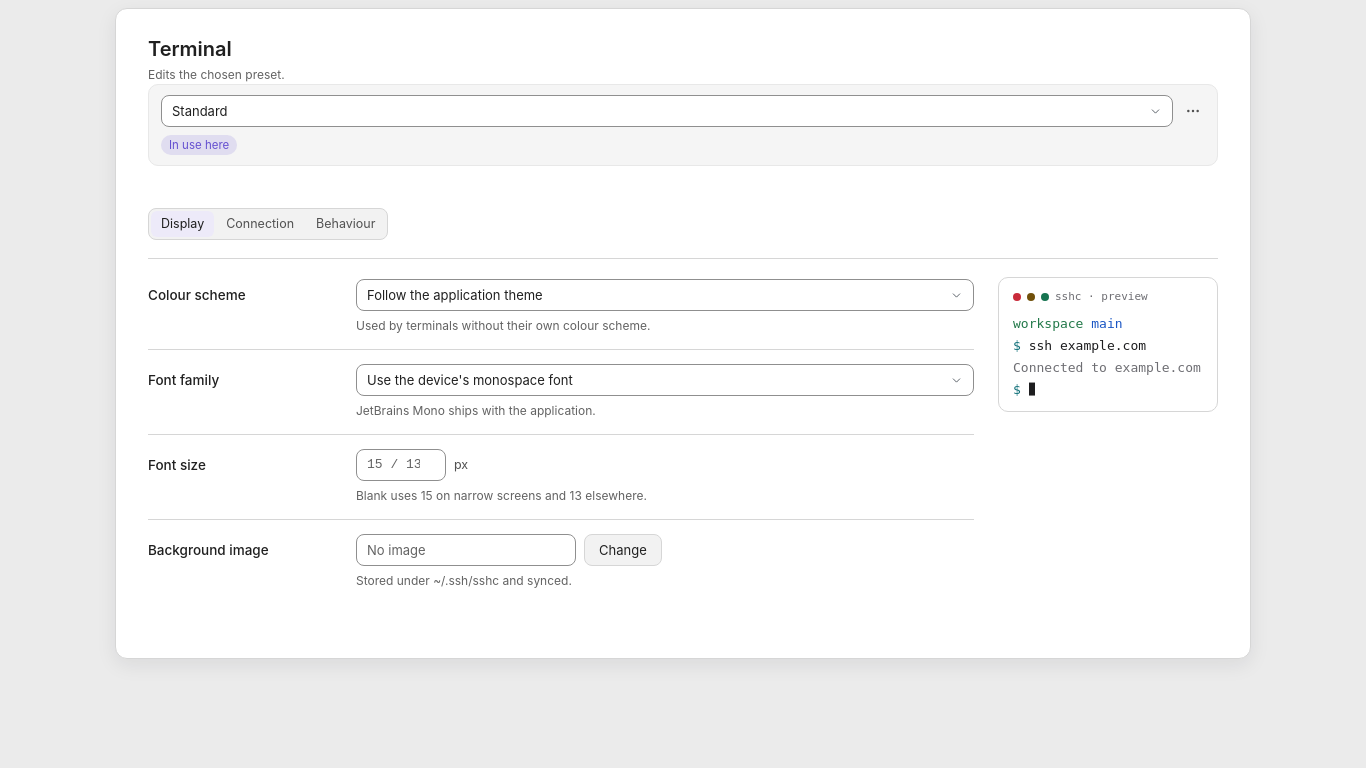
SettingsPanel › saves what was typed on one tab when another is opened, and keeps it shown
Click the tab "Connection".
click(260, 224)  # box [216,211,304,237]
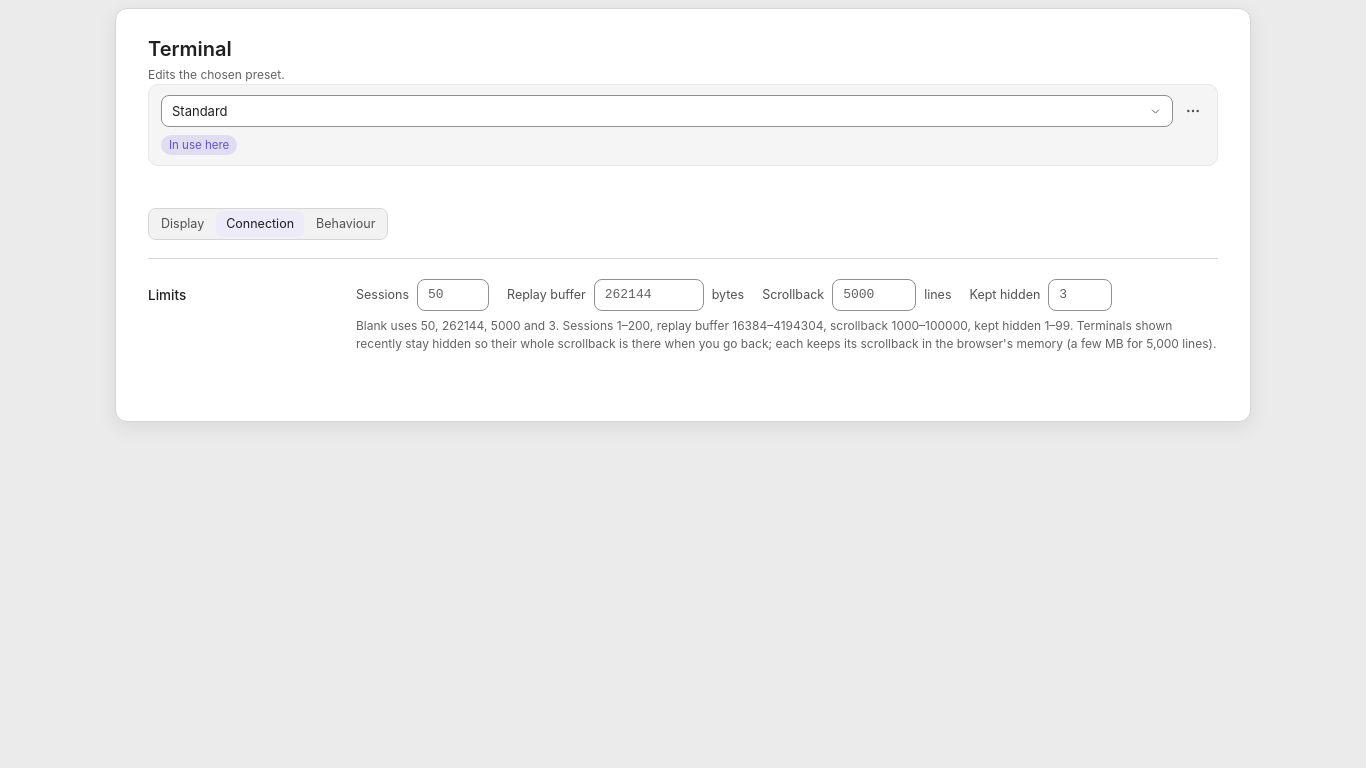
Expected: the number field named "Sessions open at once" is enabled
Type "7" into the number field named "Sessions open at once".
click(453, 295); type("7")  # box [417,279,489,311]
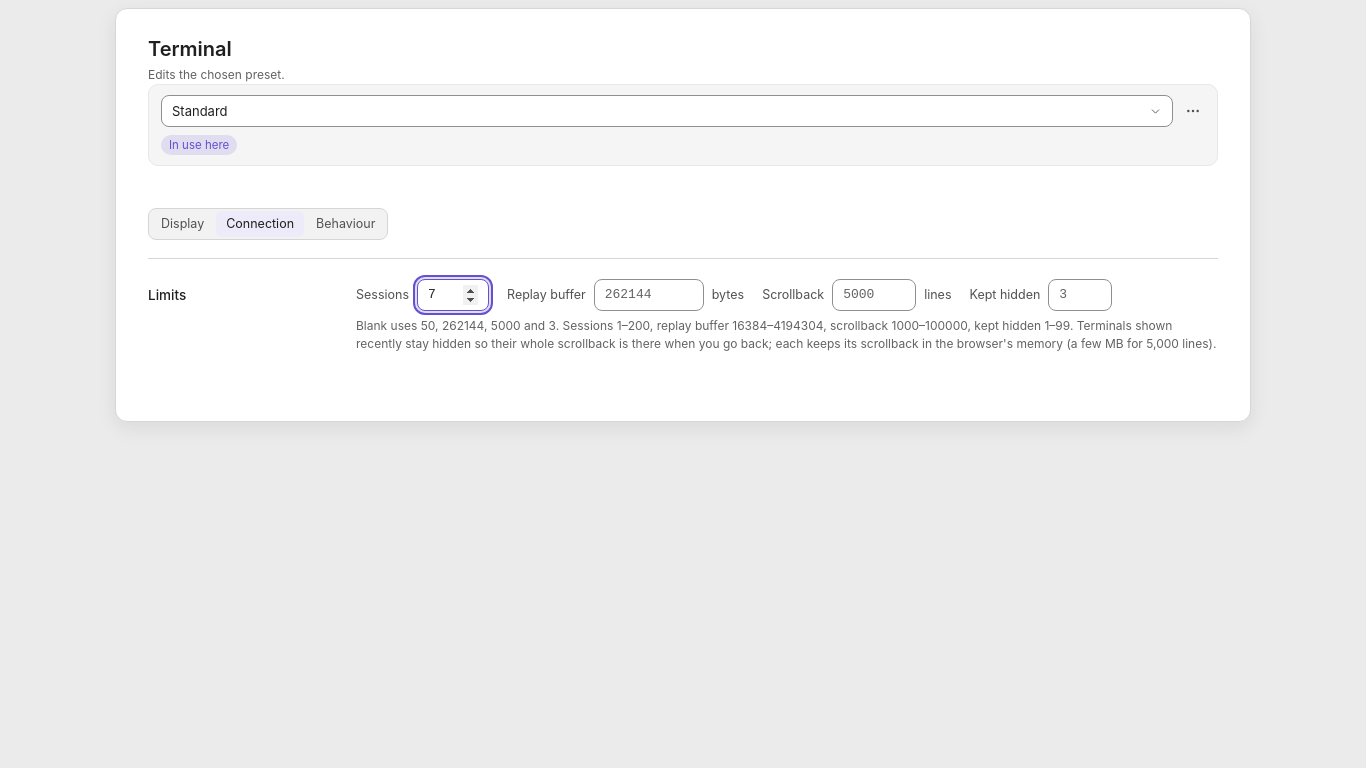
Click the tab "Display".
click(183, 224)  # box [151,211,214,237]
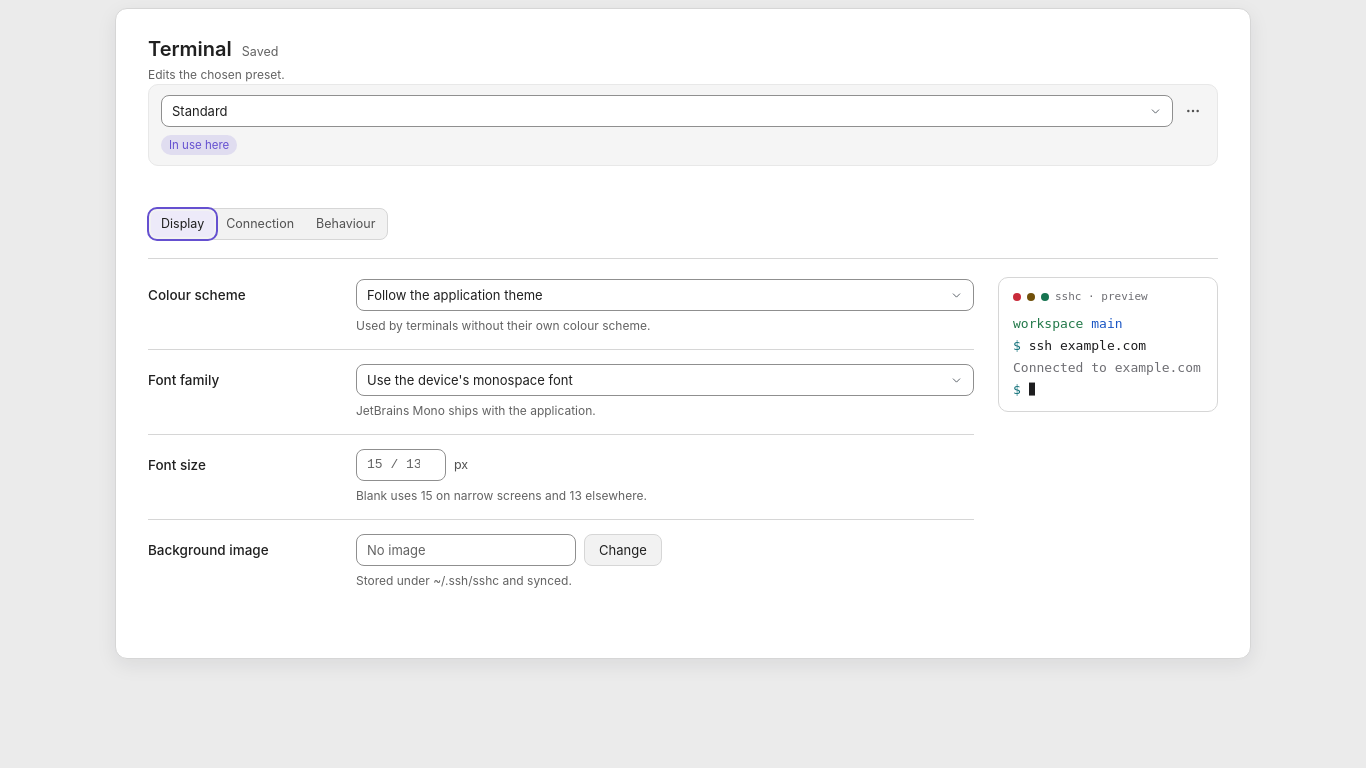
Type "14" into the number field labelled "Font size".
click(401, 465); type("14")  # box [356,449,446,481]
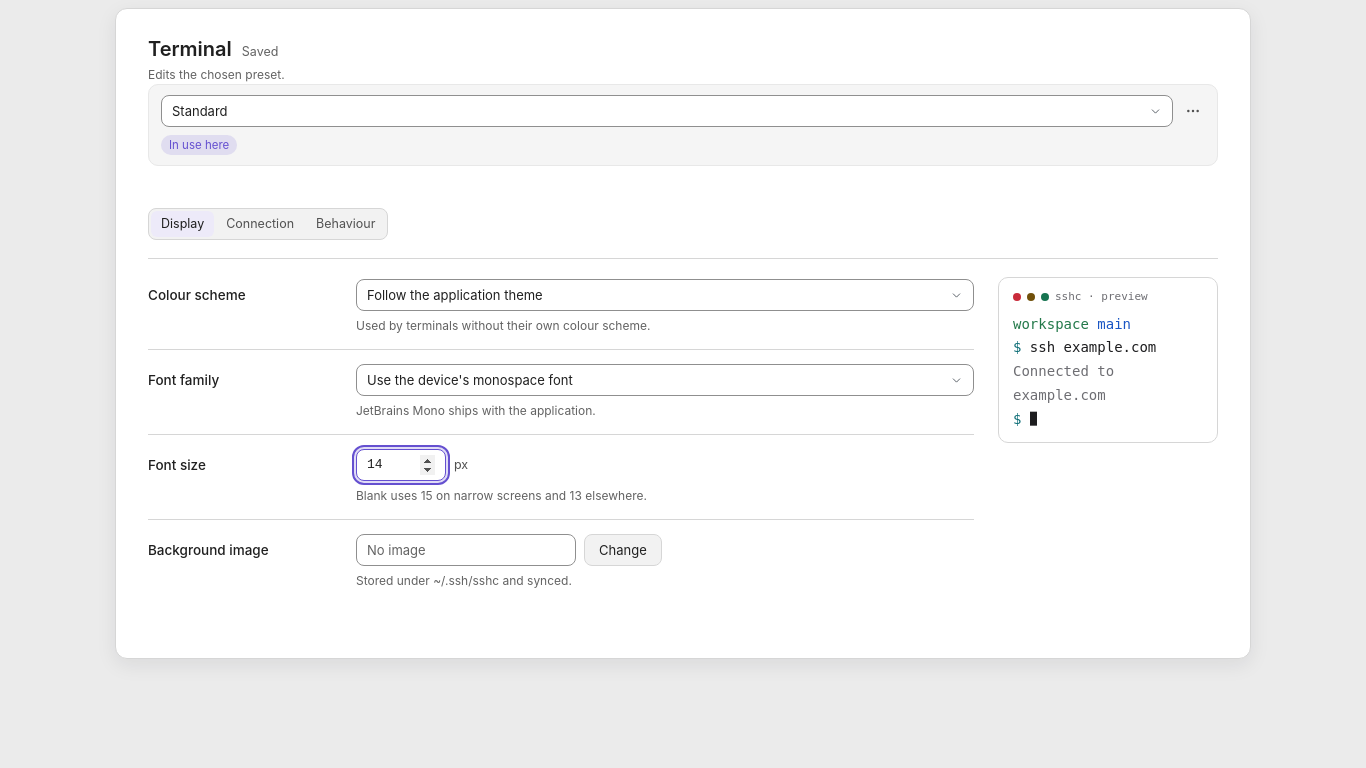
Click the tab "Connection".
click(260, 224)  # box [216,211,304,237]
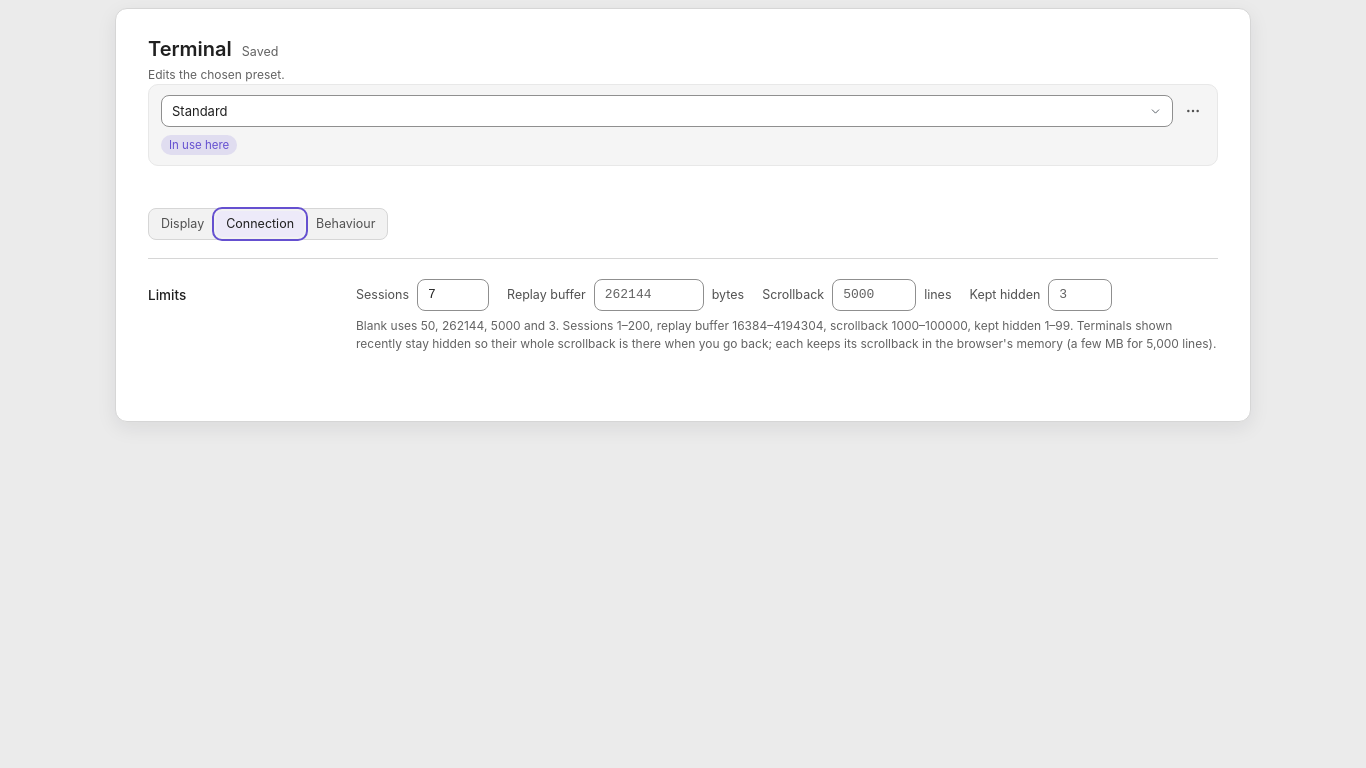
Expected: the number field named "Sessions open at once" holds "7", [417,279,489,311]
